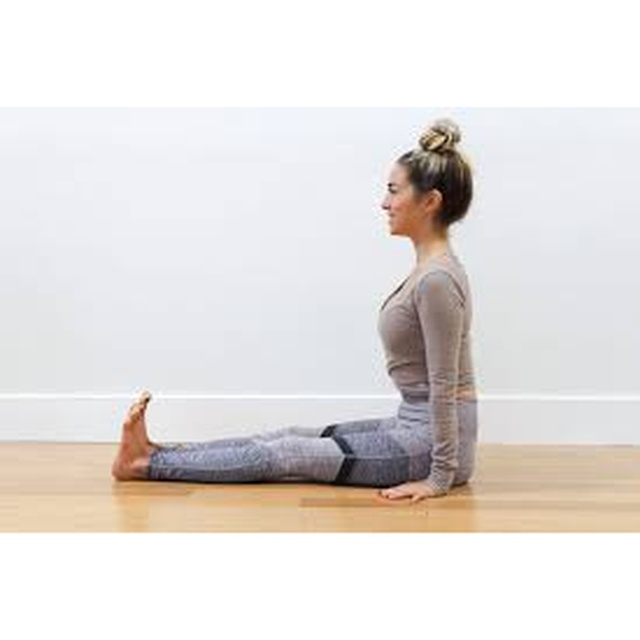Staff_Pose: (111, 118, 480, 508)
